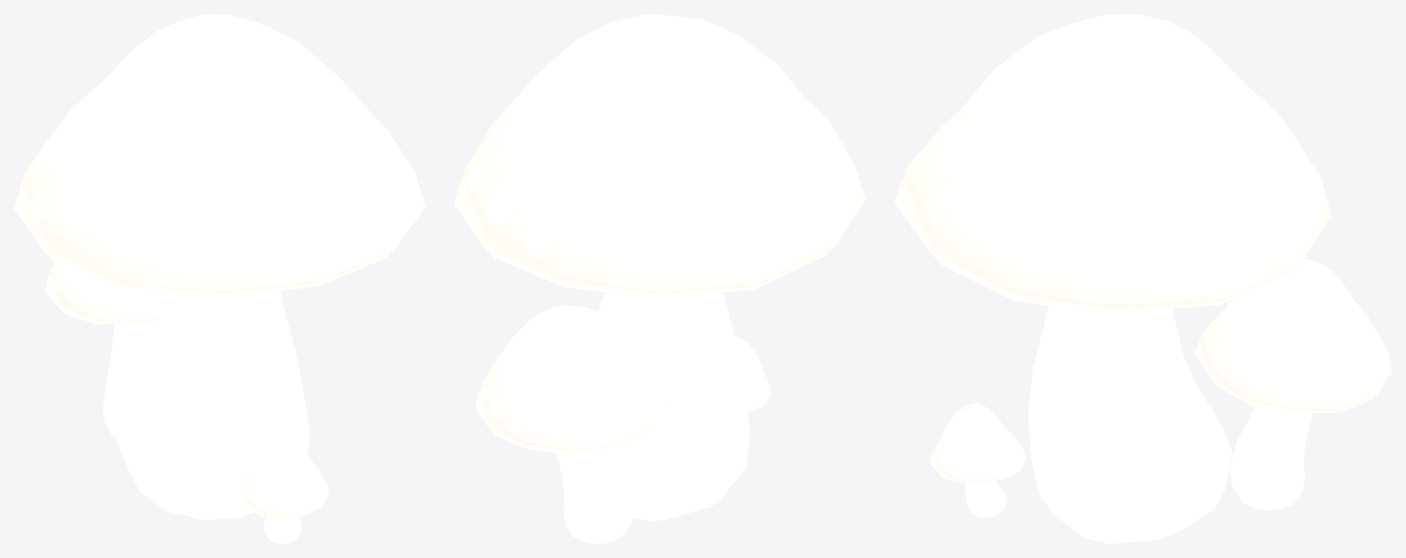
Rendered from RedMushroom.glb.
3 renders of one model, left to right at view 1: azimuth 30°, elevation 25°; view 2: azimuth 150°, elevation 25°; view 3: azimuth 270°, elevation 25°, orthographic. The views are drawn at different scales.
Visible parts, largest first — view 1: Stylized Red Mushroom; view 2: Stylized Red Mushroom; view 3: Stylized Red Mushroom.
Part boxes in pixels (bbox=[...]): Stylized Red Mushroom: bbox=[14, 14, 425, 543]; Stylized Red Mushroom: bbox=[454, 14, 865, 543]; Stylized Red Mushroom: bbox=[894, 14, 1391, 543].
Size of the model in its own units: 595 by 783 by 687.
Materials: 1 (1 with a texture image).
